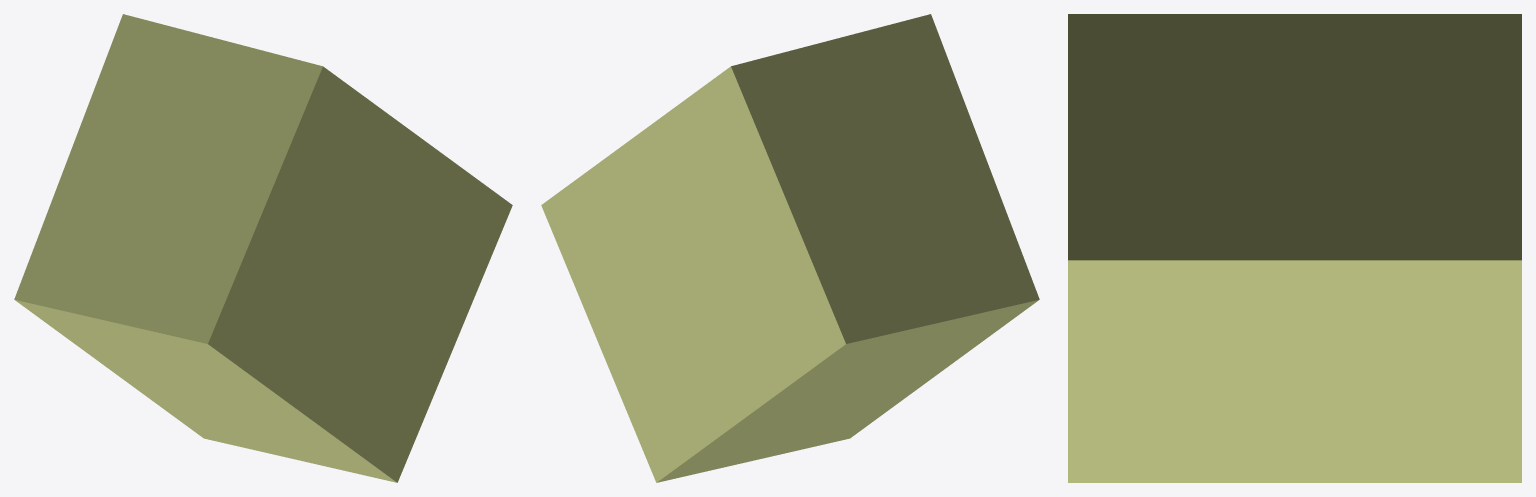
3 views of the same model, side by side, from view 1: azimuth 30°, elevation 25°; view 2: azimuth 150°, elevation 25°; view 3: azimuth 270°, elevation 25° (orthographic). The views are drawn at different scales.
Parts seen in each view (by area): view 1: 0_1_0_0_0_0_2_2_2_2_2; view 2: 0_1_0_0_0_0_2_2_2_2_2; view 3: 0_1_0_0_0_0_2_2_2_2_2.
Part boxes in pixels (x1,y1,x2,y2): 0_1_0_0_0_0_2_2_2_2_2: (14, 14, 512, 482); 0_1_0_0_0_0_2_2_2_2_2: (541, 14, 1039, 482); 0_1_0_0_0_0_2_2_2_2_2: (1068, 14, 1521, 482).
Size of the model in its own units: 5.64 by 6.12 by 6.
